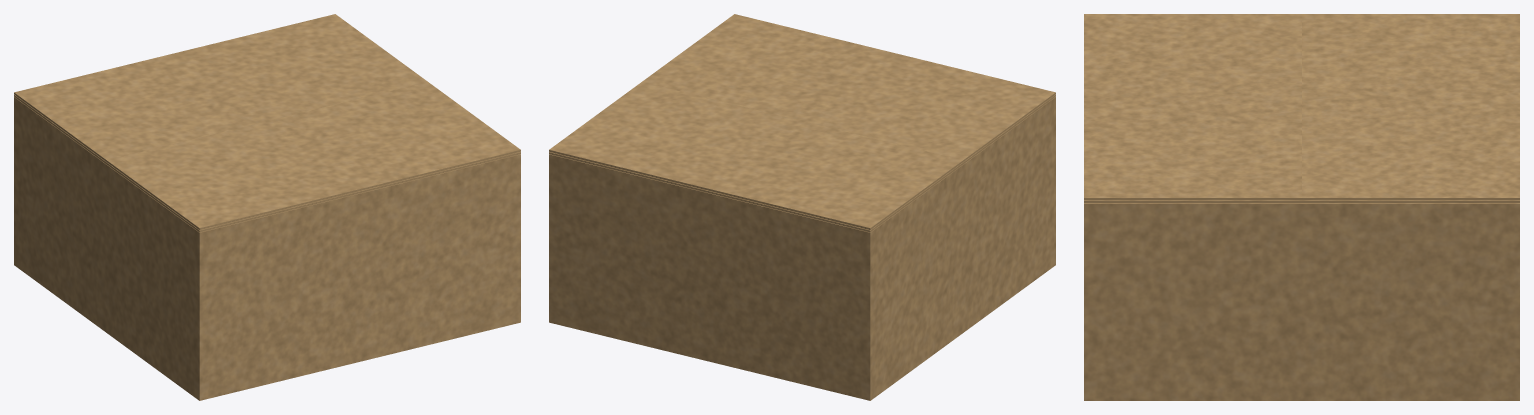
Rendered from BoxOpening.fbx.
The picture shows the model from 3 angles, left to right: view 1: azimuth 30°, elevation 25°; view 2: azimuth 150°, elevation 25°; view 3: azimuth 270°, elevation 25°; orthographic projection. The views are drawn at different scales.
Parts seen in each view (by area): view 1: Cube, Cube.004, Cube.003, Cube.001, Cube.002; view 2: Cube, Cube.003, Cube.004, Cube.001, Cube.002; view 3: Cube, Cube.003, Cube.004, Cube.002.
Part boxes in pixels (bbox=[...]): Cube: bbox=[14, 97, 520, 400]; Cube.004: bbox=[106, 82, 520, 229]; Cube.003: bbox=[14, 14, 427, 161]; Cube.001: bbox=[14, 94, 360, 232]; Cube.002: bbox=[360, 152, 520, 192]; Cube: bbox=[549, 97, 1055, 400]; Cube.003: bbox=[549, 82, 963, 229]; Cube.004: bbox=[642, 14, 1055, 161]; Cube.001: bbox=[709, 94, 1055, 232]; Cube.002: bbox=[549, 152, 709, 192]; Cube: bbox=[1084, 203, 1519, 400]; Cube.003: bbox=[1302, 14, 1519, 200]; Cube.004: bbox=[1084, 14, 1301, 200]; Cube.002: bbox=[1084, 200, 1519, 202].
Size of the model in its own units: 200 by 103 by 200.
1 material, 1 textured.
